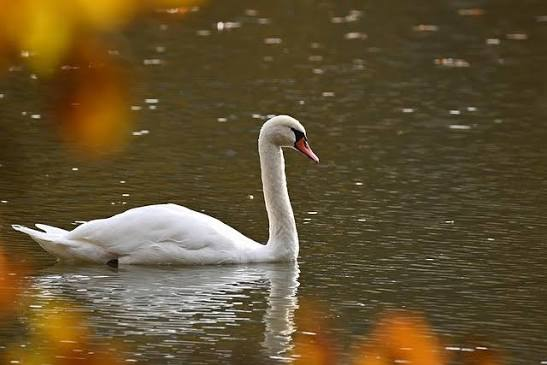swan: (10, 112, 321, 271)
